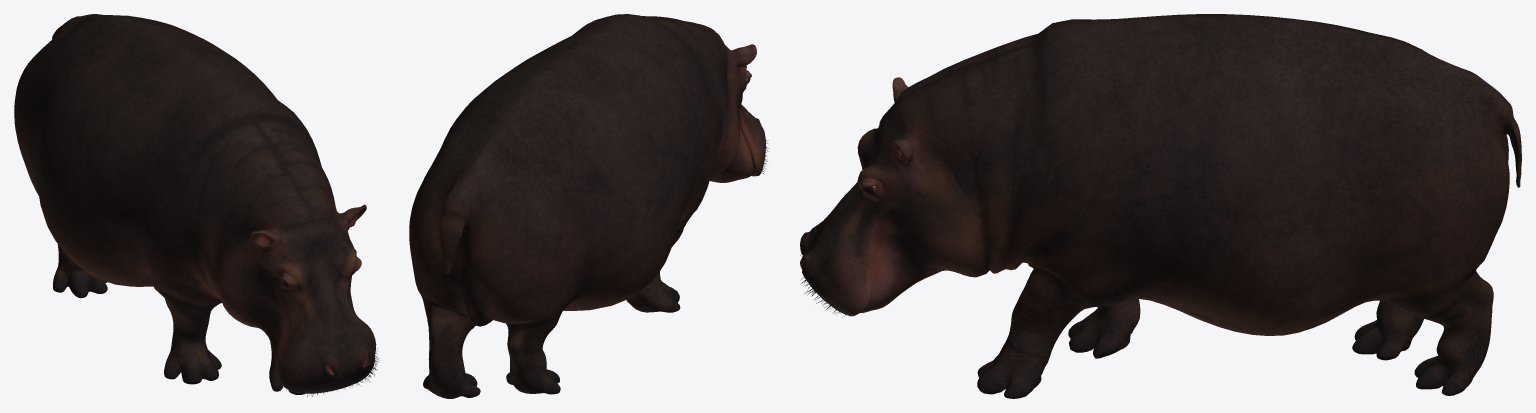
Rendered from hippopotamus.glb.
3 views of the same model, side by side, from view 1: azimuth 30°, elevation 25°; view 2: azimuth 150°, elevation 25°; view 3: azimuth 270°, elevation 25° (orthographic). The views are drawn at different scales.
Visible parts, largest first — view 1: hippo.1_1; view 2: hippo.1_1; view 3: hippo.1_1.
Boxes of the visible parts, x1,y1,x2,y2 form: hippo.1_1: (14,14,379,396); hippo.1_1: (409,14,768,398); hippo.1_1: (800,14,1521,398).
Size of the model in its own units: 0.1046 by 0.1301 by 0.2444.
Materials: 1 (1 with a texture image).
